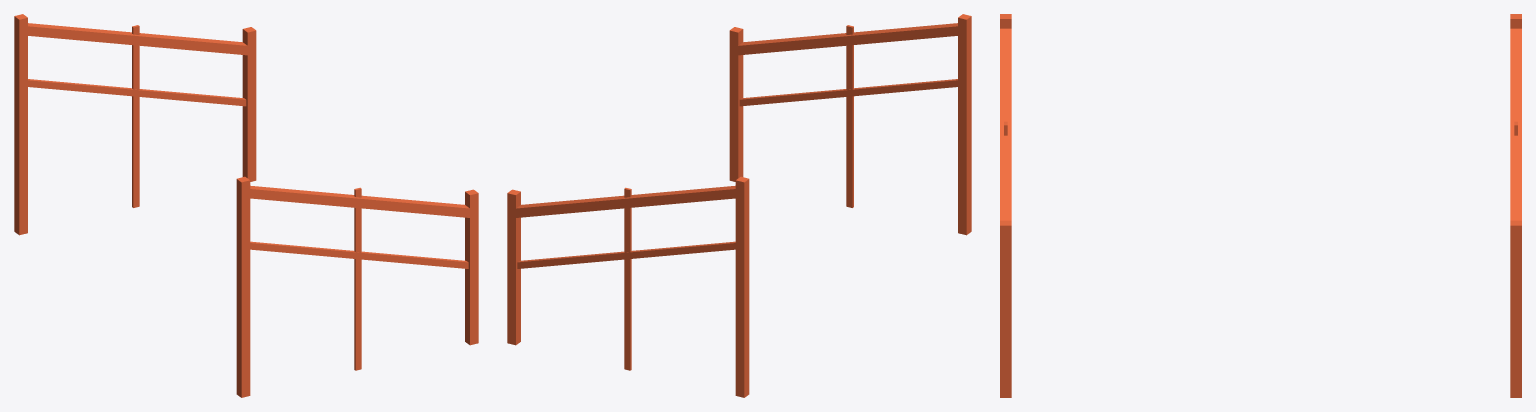
Rendered from gazebo_stairs_railing.glb.
3 views of the same model, side by side, from view 1: azimuth 30°, elevation 25°; view 2: azimuth 150°, elevation 25°; view 3: azimuth 270°, elevation 25° (orthographic). The views are drawn at different scales.
Visible parts, largest first — view 1: gazebo_railing_small.005; view 2: gazebo_railing_small.005; view 3: gazebo_railing_small.005.
Boxes of the visible parts, x1,y1,x2,y2 form: gazebo_railing_small.005: [14, 14, 478, 397]; gazebo_railing_small.005: [507, 14, 971, 397]; gazebo_railing_small.005: [1000, 14, 1521, 397].
Bounding box in the file's own units: 2.79 × 2.45 × 4.62.
